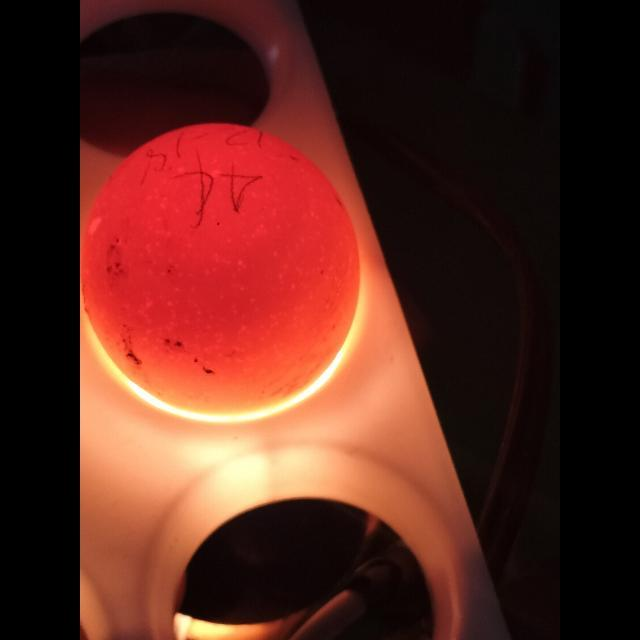Infertile: (85, 120, 352, 408)
